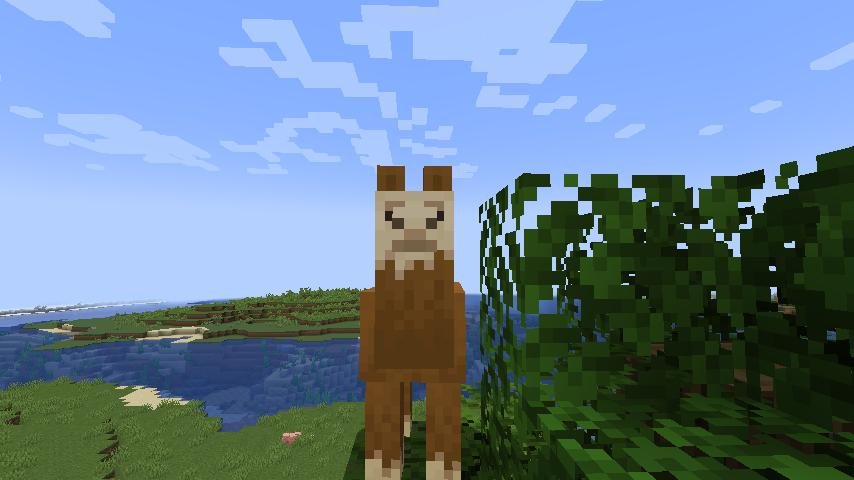llama: (353, 160, 474, 480)
